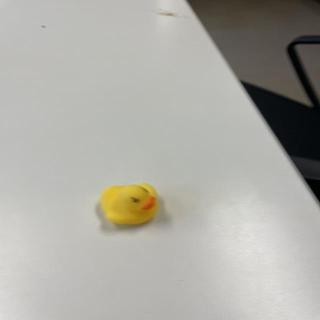duck_regular: (100, 183, 162, 227)
